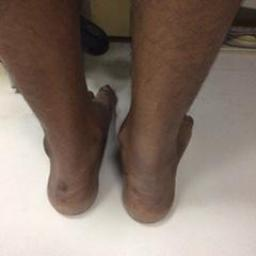Back View -Both Feet-: (14, 76, 208, 228)
